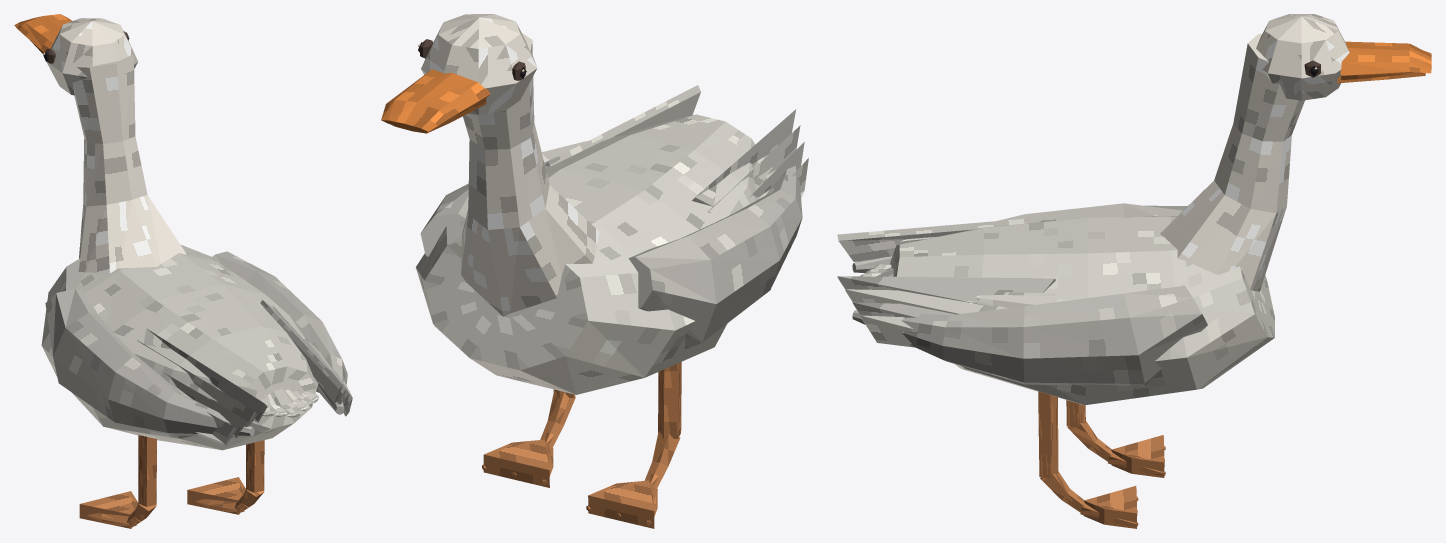
Rendered from mon_goose.glb.
3 renders of one model, left to right at view 1: azimuth 30°, elevation 25°; view 2: azimuth 150°, elevation 25°; view 3: azimuth 270°, elevation 25°, orthographic. The views are drawn at different scales.
Visible parts, largest first — view 1: closed_body; view 2: closed_body; view 3: closed_body.
Part boxes in pixels (x1=…): closed_body: x1=14, y1=14, x2=352, y2=528; closed_body: x1=381, y1=14, x2=808, y2=528; closed_body: x1=837, y1=14, x2=1431, y2=528.
Bounding box in the file's own units: 0.286 × 0.5217 × 0.5928.
1 material, 1 textured.
